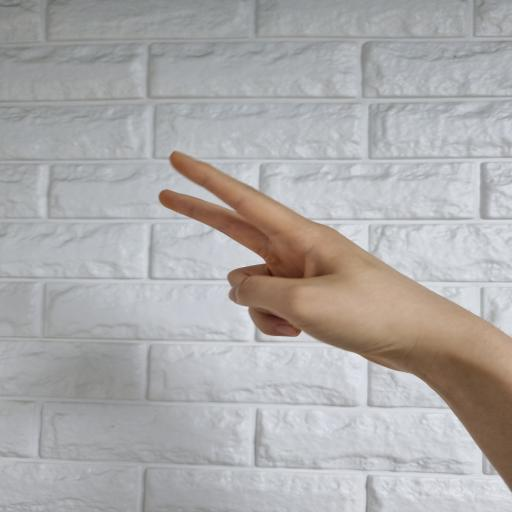Scissors: (158, 150, 472, 371)
